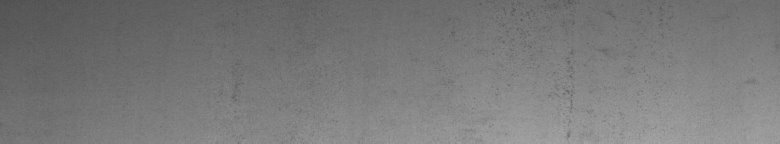ib: (511, 4, 616, 136)
